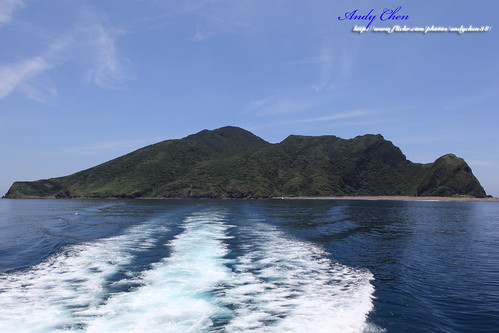turtleIsland: (8, 118, 486, 207)
